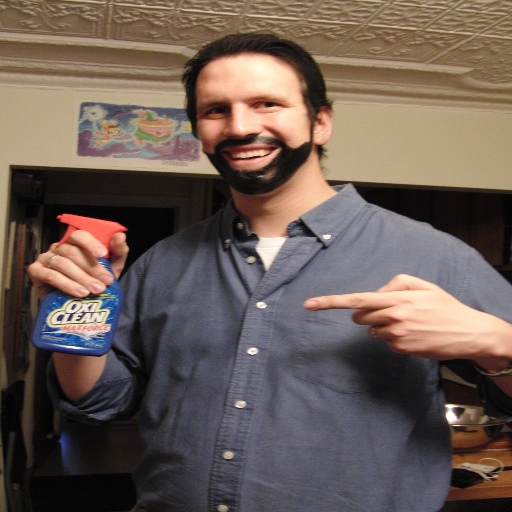hand: (302, 273, 500, 361), (28, 219, 125, 307)
